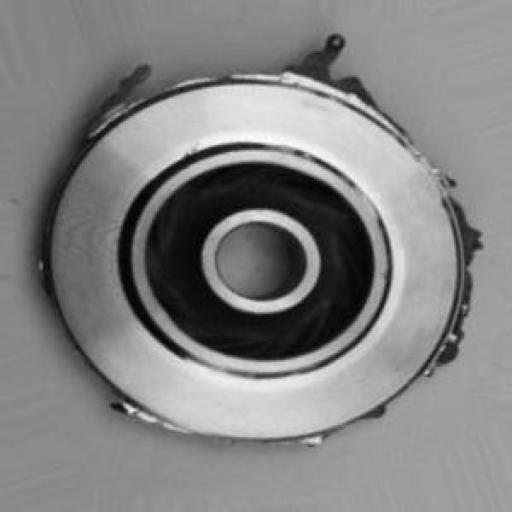defect: (35, 27, 494, 465)
